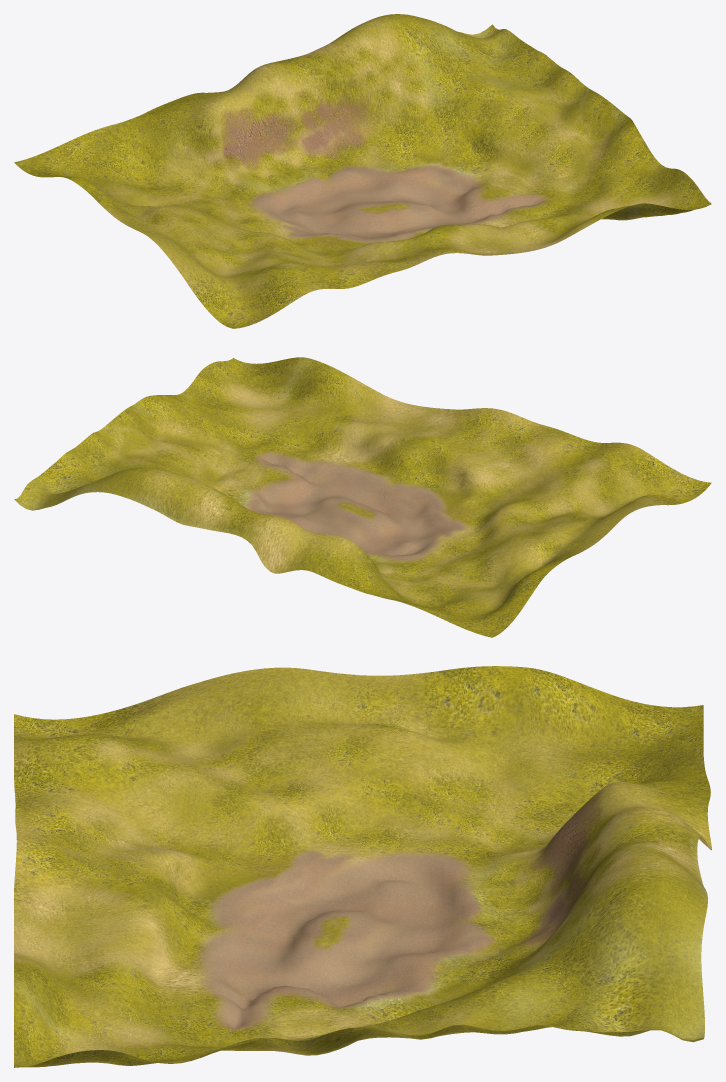
File: lagoon.glb
3 renders of one model, top to bottom at view 1: azimuth 30°, elevation 25°; view 2: azimuth 150°, elevation 25°; view 3: azimuth 270°, elevation 25°, orthographic. The views are drawn at different scales.
Parts seen in each view (by area): view 1: terrain; view 2: terrain; view 3: terrain.
Part boxes in pixels (bbox=[...]): terrain: bbox=[14, 14, 711, 328]; terrain: bbox=[14, 357, 711, 637]; terrain: bbox=[14, 666, 711, 1067].
Size of the model in its own units: 298 by 58.54 by 237.
Materials: 1 (1 with a texture image).
